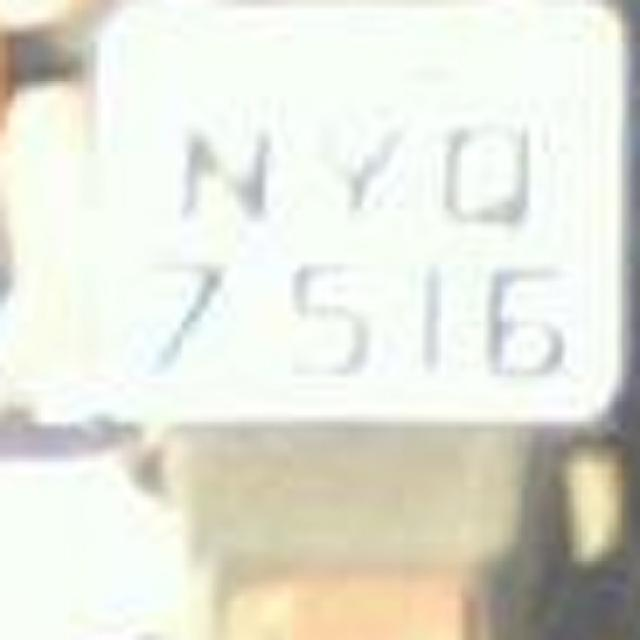1: (388, 232, 472, 388)
5: (264, 232, 391, 392)
6: (456, 224, 589, 404)
7: (95, 220, 260, 412)
N: (140, 89, 295, 256), (289, 80, 416, 252)
O: (408, 84, 552, 244)
